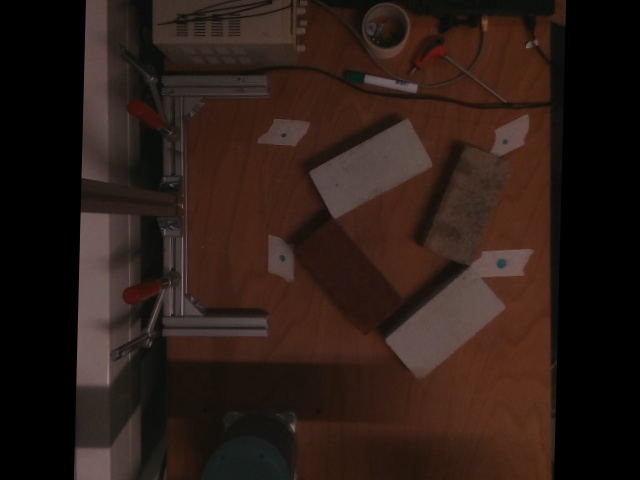brick: (388, 268, 504, 377), (294, 218, 401, 334), (312, 120, 432, 215), (423, 144, 509, 265)
